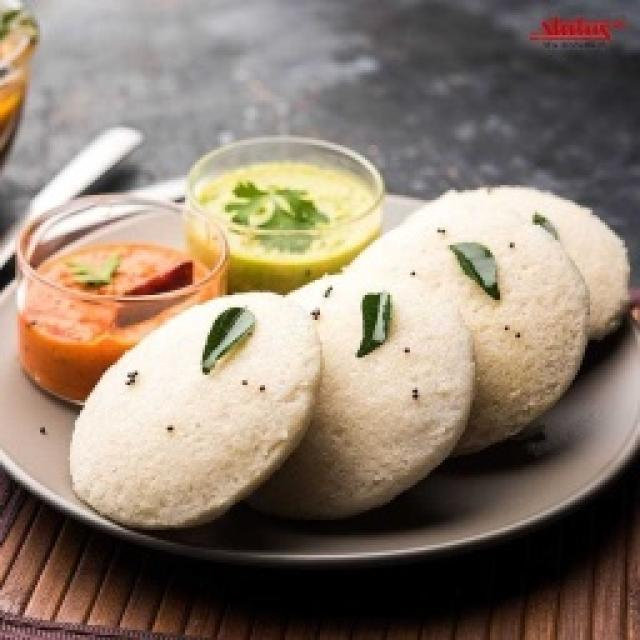idli: (70, 293, 322, 529), (350, 208, 589, 454), (248, 275, 474, 519), (413, 185, 629, 339)
